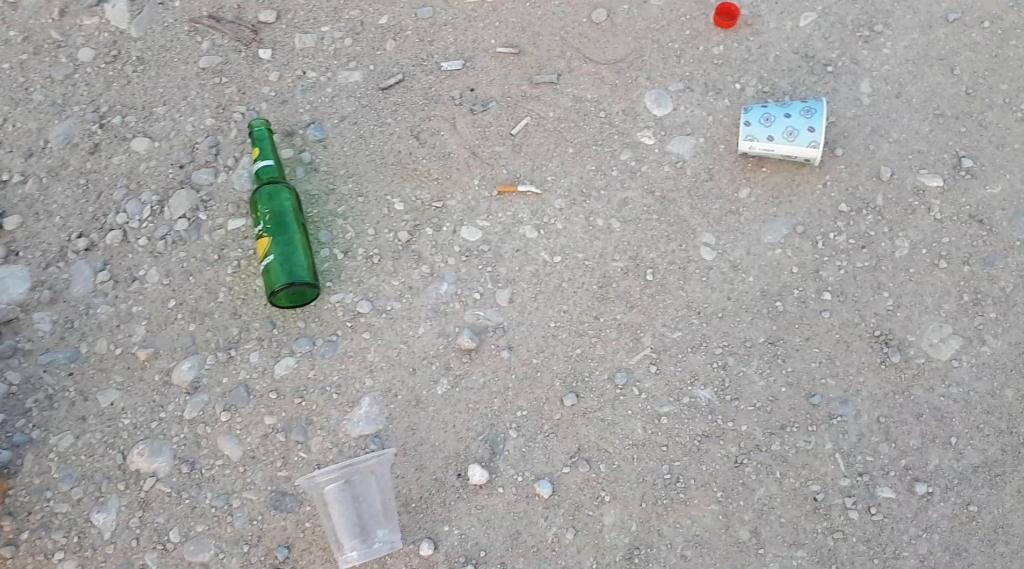garbage: (228, 118, 337, 321), (247, 117, 321, 309), (736, 88, 841, 185)
